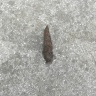Dog: (43, 25, 54, 62)
